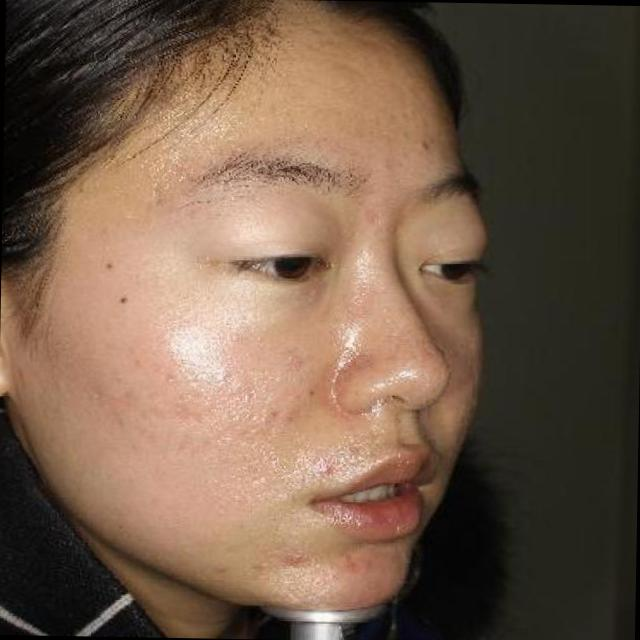blackhead: (406, 130, 438, 160), (296, 385, 321, 403)
nodules: (275, 547, 313, 569), (353, 203, 378, 229), (312, 459, 332, 476), (359, 554, 376, 574), (347, 554, 357, 572)
